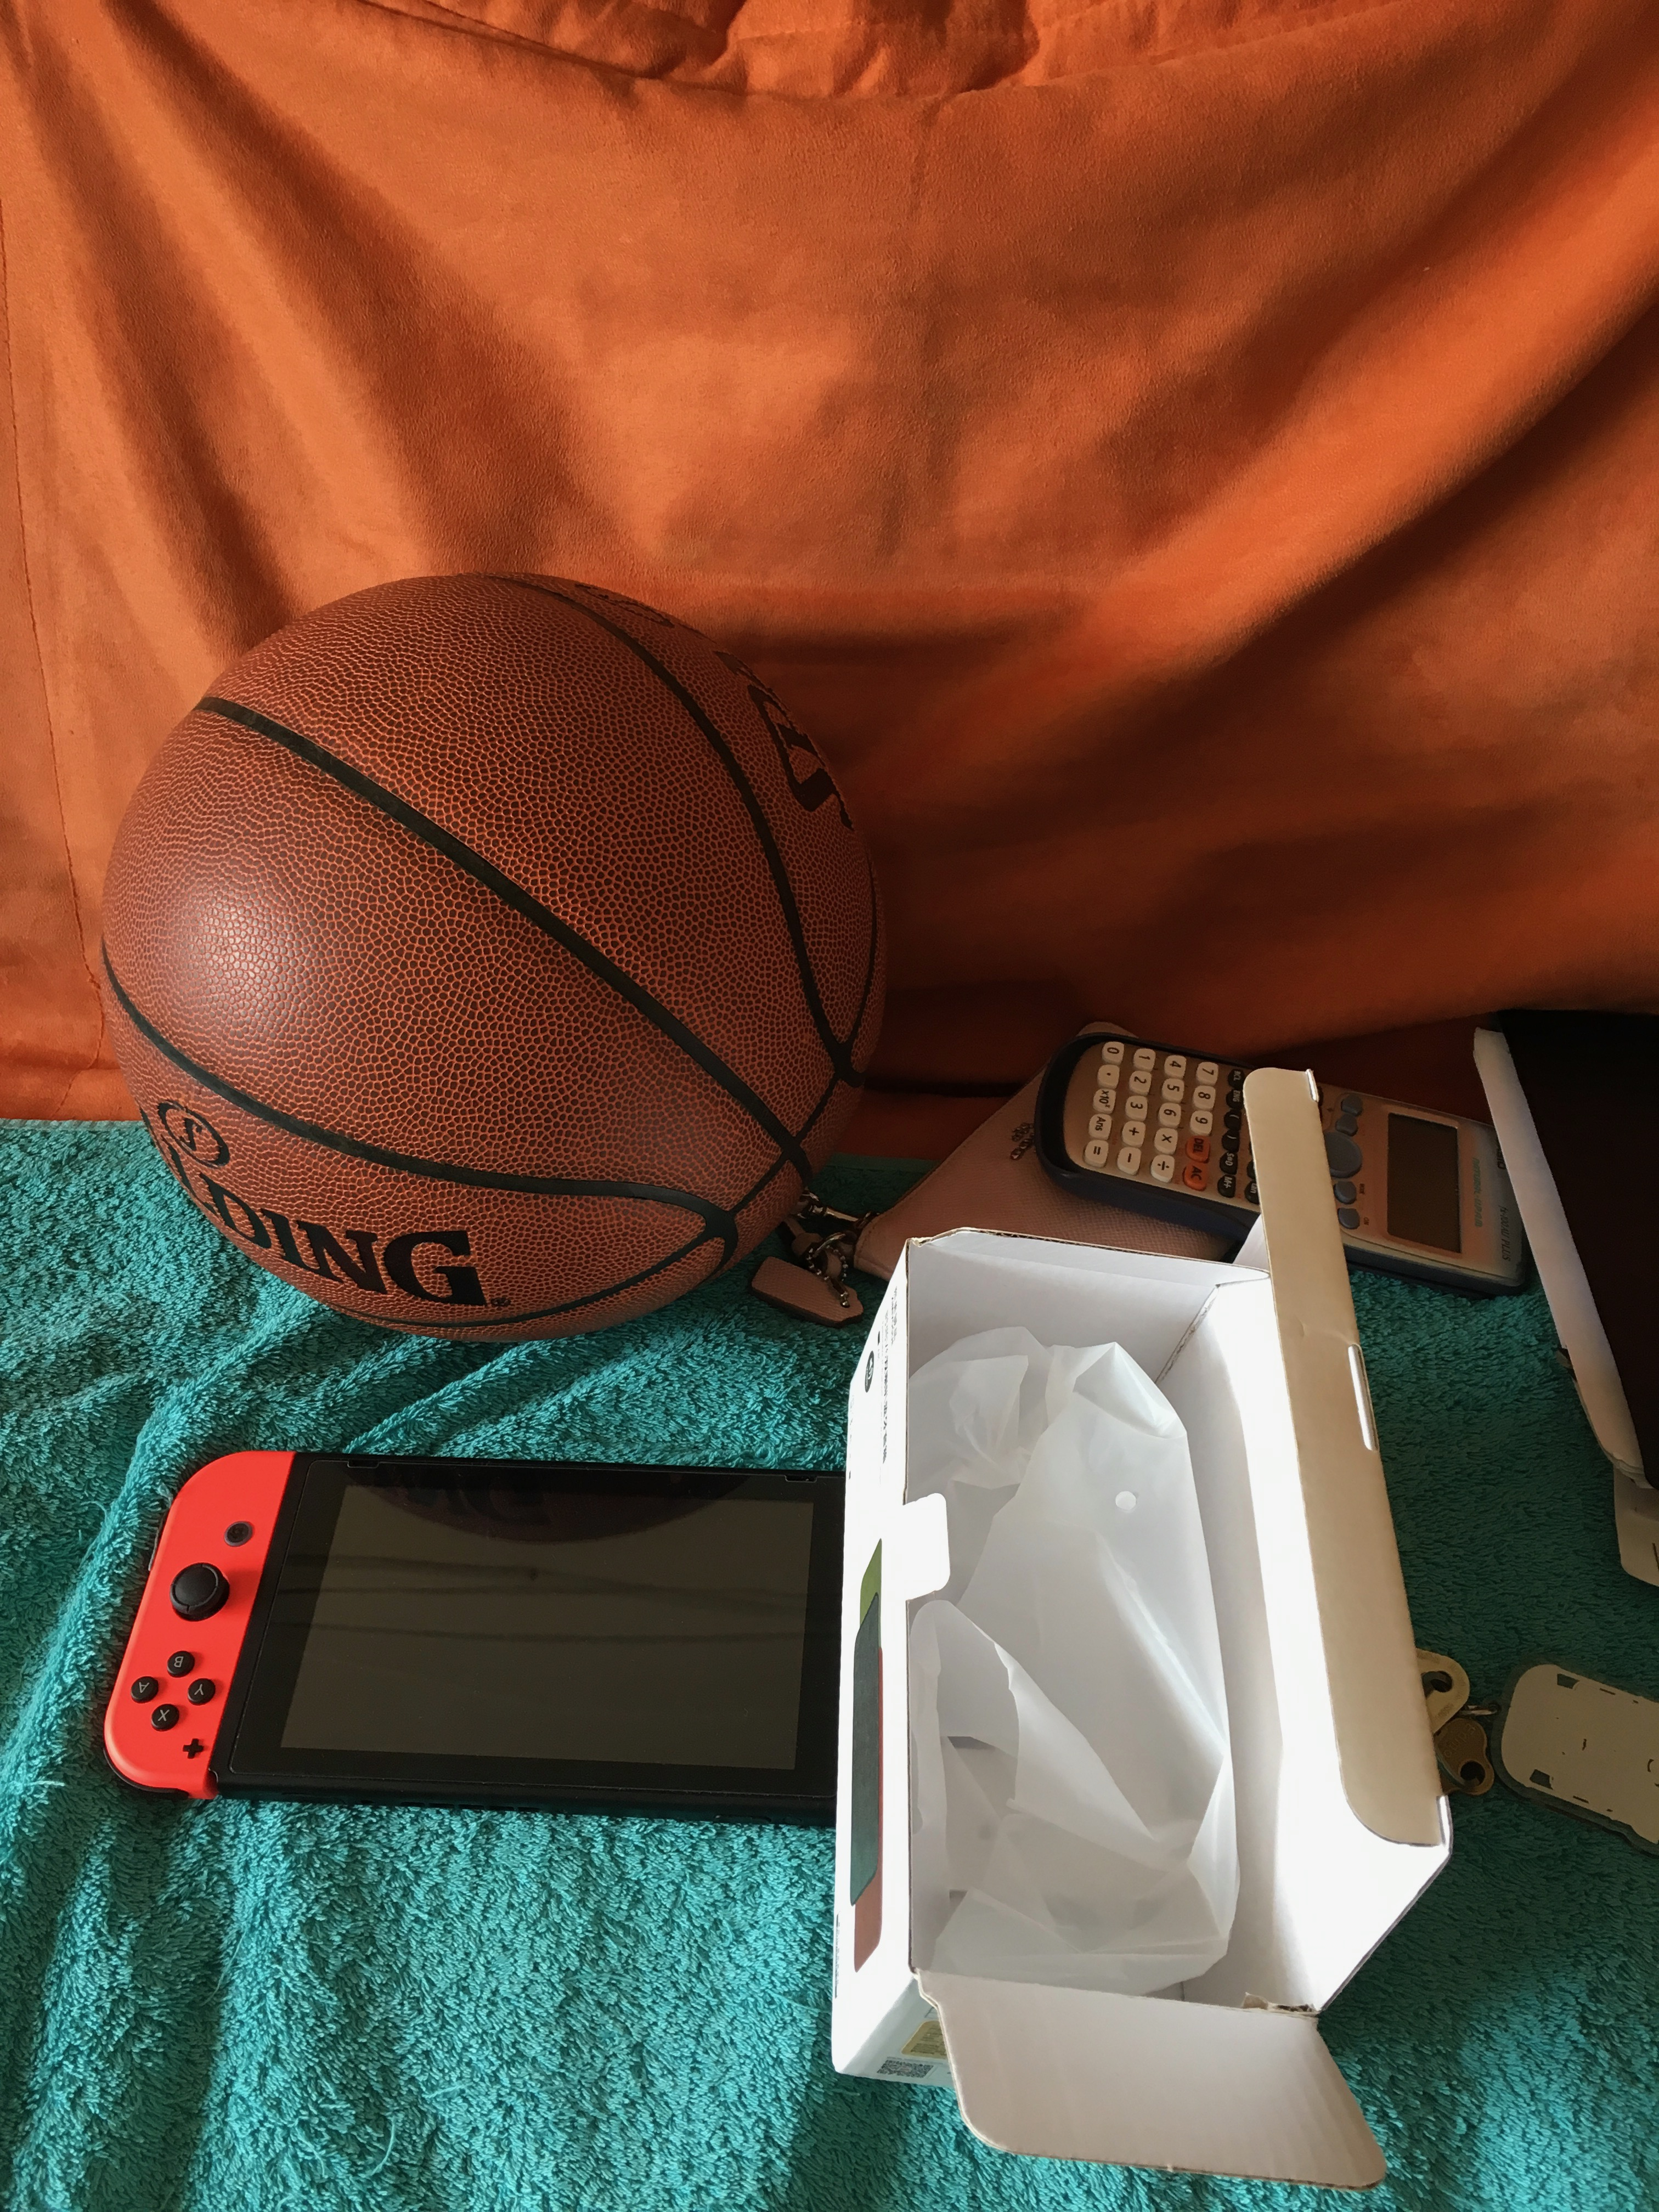Basketball: (78, 564, 908, 1357)
Calculator: (1039, 1028, 1527, 1315)
NintendoSwitch: (66, 1433, 868, 1838)
